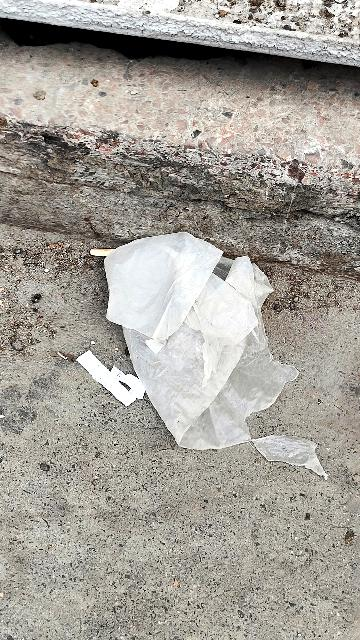polythene: (83, 185, 323, 456)
